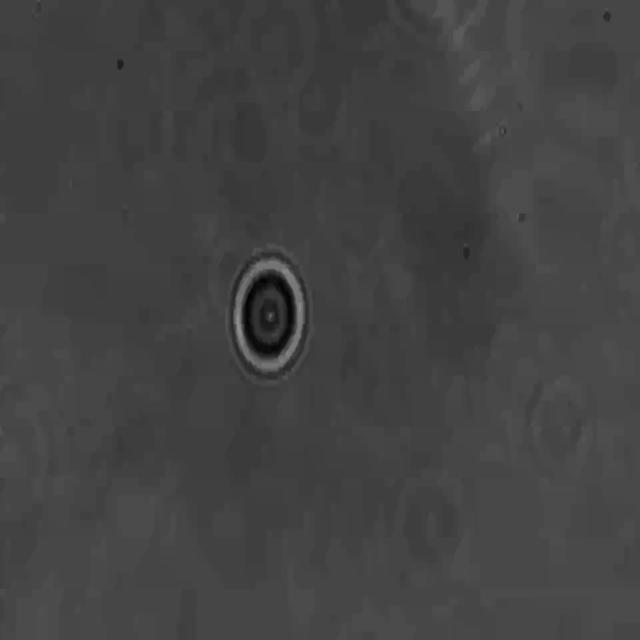LCELL: (225, 239, 314, 389)
